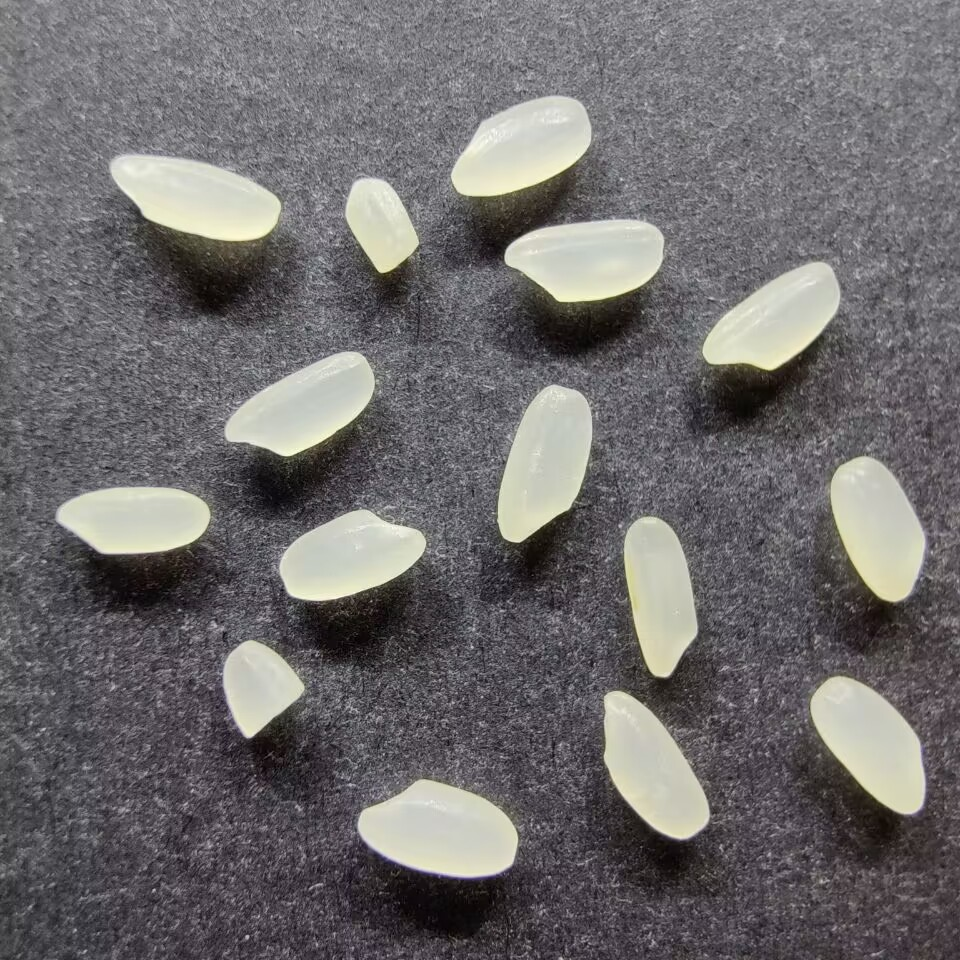broken: (221, 639, 306, 742), (342, 175, 421, 275)
rice: (222, 348, 378, 457), (808, 674, 928, 815), (600, 689, 711, 841), (354, 777, 518, 879), (700, 259, 844, 372), (495, 383, 593, 544), (108, 151, 283, 241), (827, 454, 927, 603), (448, 94, 591, 198), (502, 217, 666, 304), (277, 508, 427, 601), (621, 515, 700, 679), (53, 485, 212, 555)
